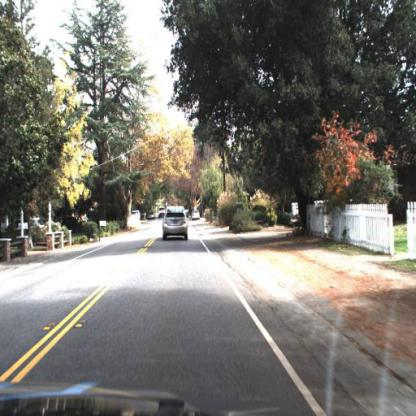car: (161, 201, 192, 241), (189, 208, 204, 224), (132, 207, 143, 226)
